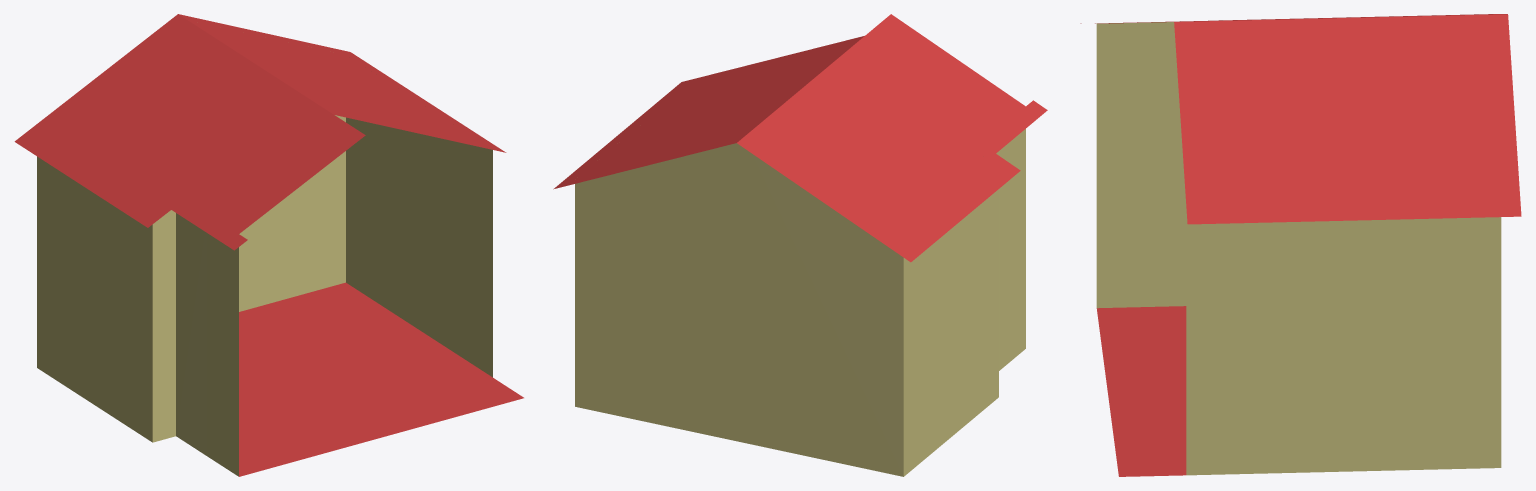
3 renders of one model, left to right at view 1: azimuth 30°, elevation 25°; view 2: azimuth 150°, elevation 25°; view 3: azimuth 270°, elevation 25°, orthographic. The views are drawn at different scales.
Bounding box in the file's own units: 12.74 × 11.6 × 10.34.
